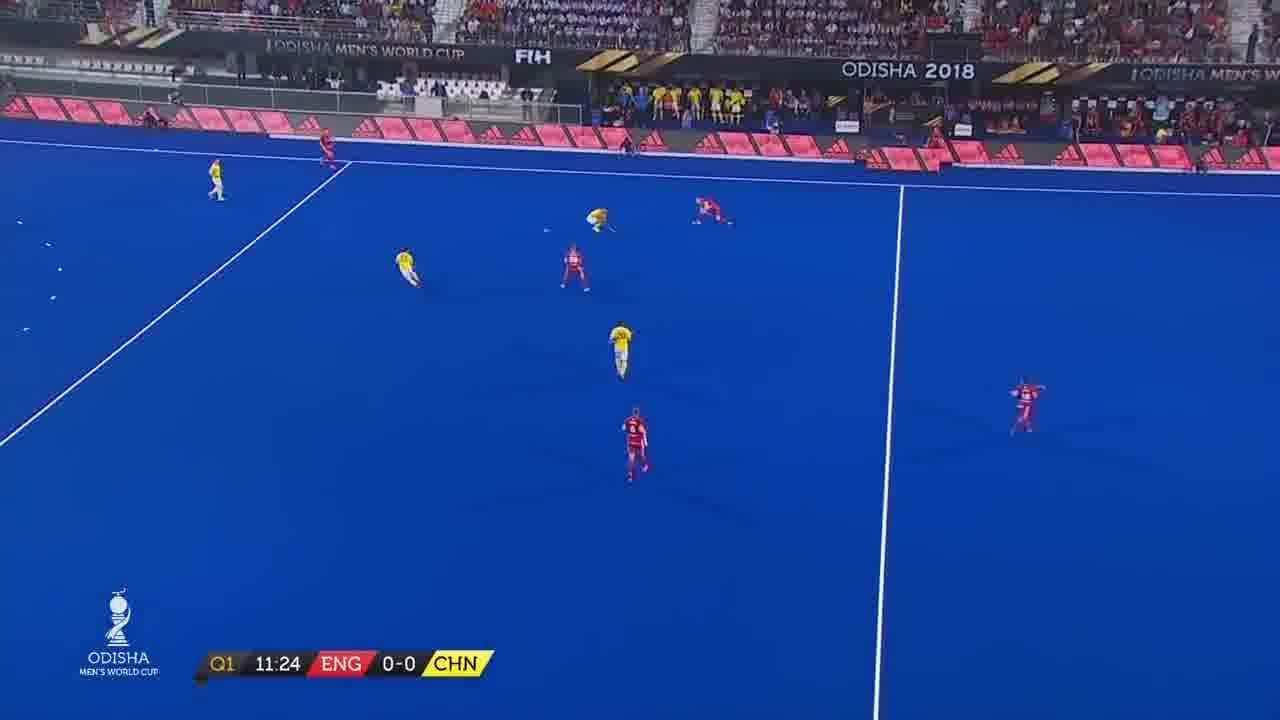ball: (540, 224, 555, 235)
